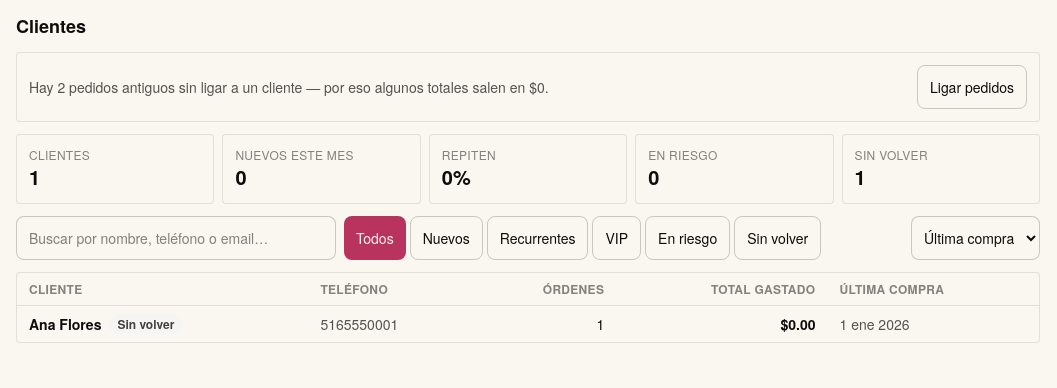
Test case: CustomersList backfill banner › shows an error and keeps the banner when the run fails
Step 1. Click the button "Ligar pedidos" → x=972, y=87, box top-left (917, 65), bottom-right (1027, 109)
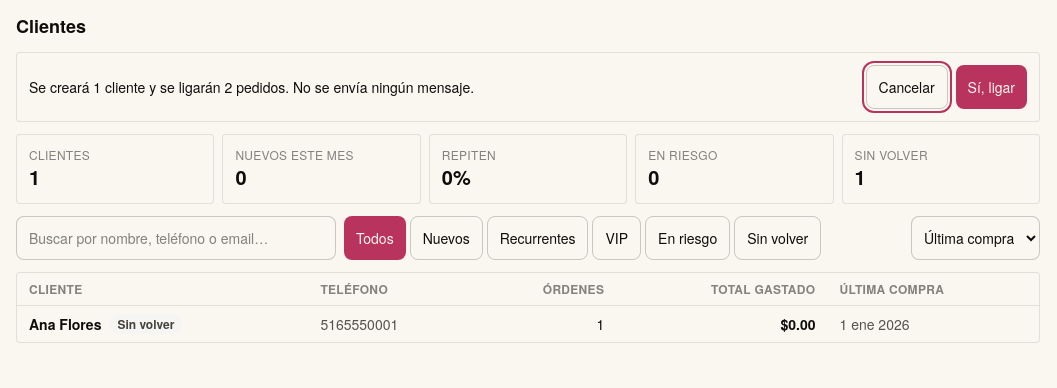
Step 2. Click the button "Sí, ligar" → x=991, y=87, box top-left (956, 65), bottom-right (1027, 109)
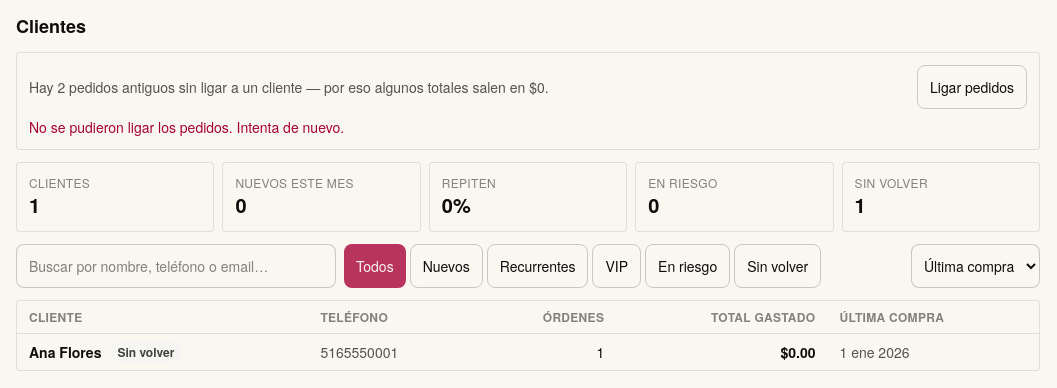
Expected: the text "No se pudieron ligar los pedidos. Intenta de nuevo." is shown, top-left (29, 117), bottom-right (344, 137)
Expected: the button "Ligar pedidos" is shown, top-left (917, 65), bottom-right (1027, 109)
